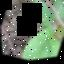Morning glory: (6, 0, 64, 63)
